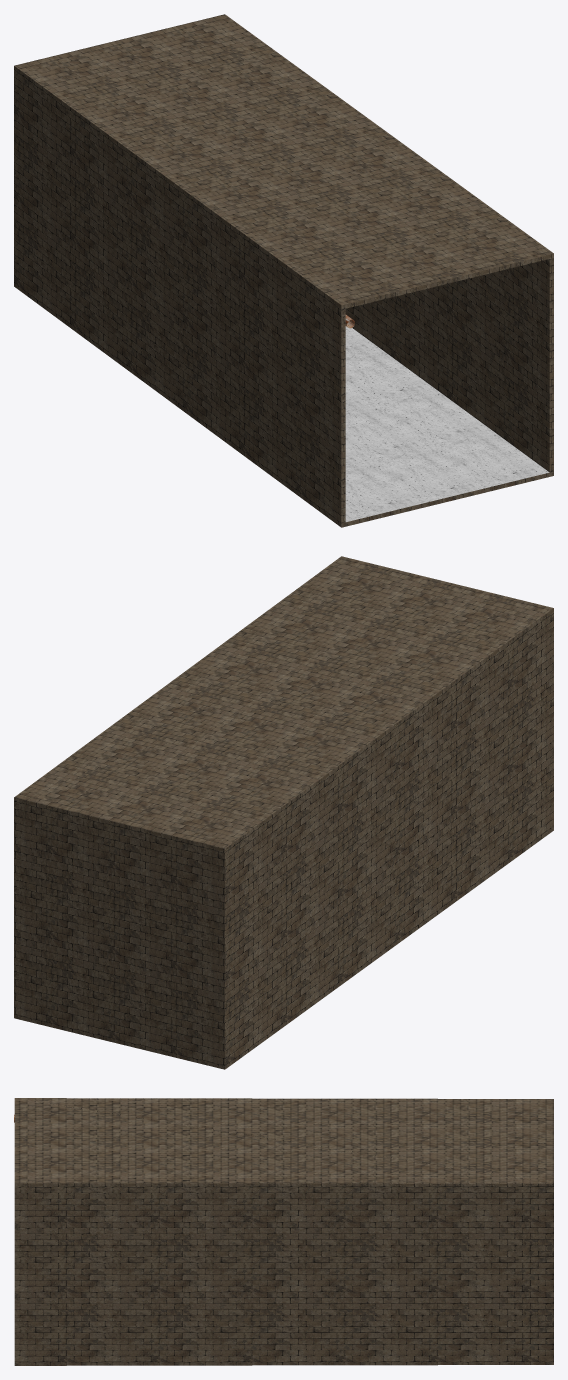
Rendered from Tunel.fbx.
3 renders of one model, top to bottom at view 1: azimuth 30°, elevation 25°; view 2: azimuth 150°, elevation 25°; view 3: azimuth 270°, elevation 25°, orthographic. The views are drawn at different scales.
Parts seen in each view (by area): view 1: Box004; view 2: Box004; view 3: Box004.
Boxes of the visible parts, <box> form: Box004: <box>14,14,553,527</box>; Box004: <box>14,556,553,1069</box>; Box004: <box>14,1098,553,1365</box>.
Bounding box in the file's own units: 10.41 × 27.89 × 10.41.
5 materials, 5 textured.
